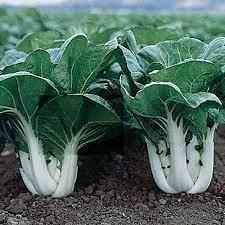Healthy-Pechay: (5, 2, 225, 133), (131, 7, 225, 194), (1, 6, 93, 194)
